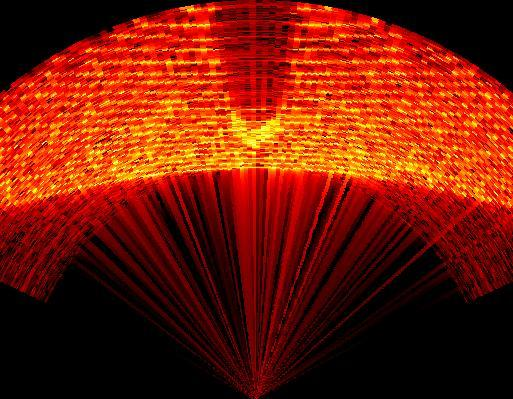box_crate: (208, 2, 305, 154)
